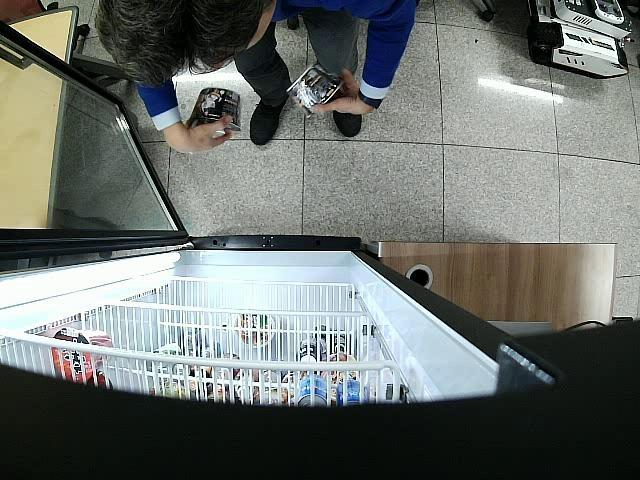07_buldak_L: (286, 64, 344, 116), (185, 87, 242, 134)
